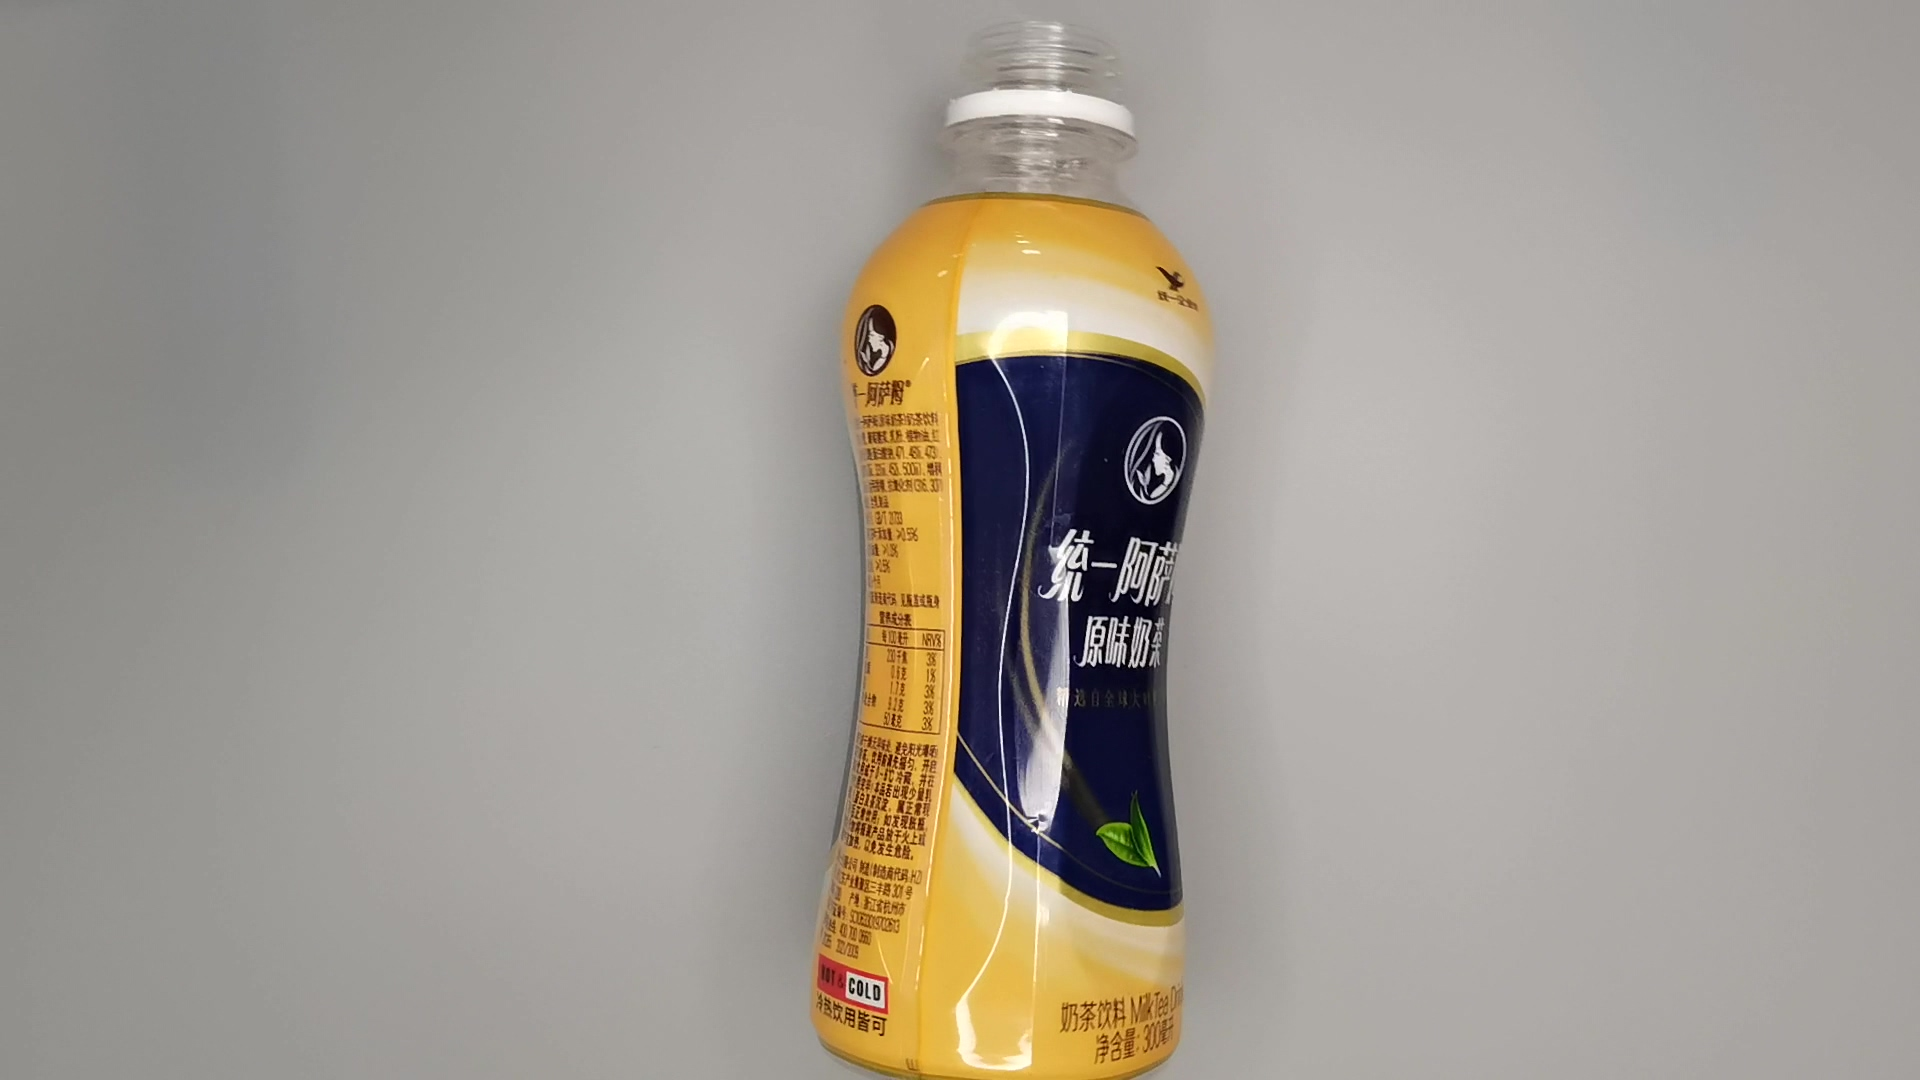bottle: (815, 20, 1234, 1080)
